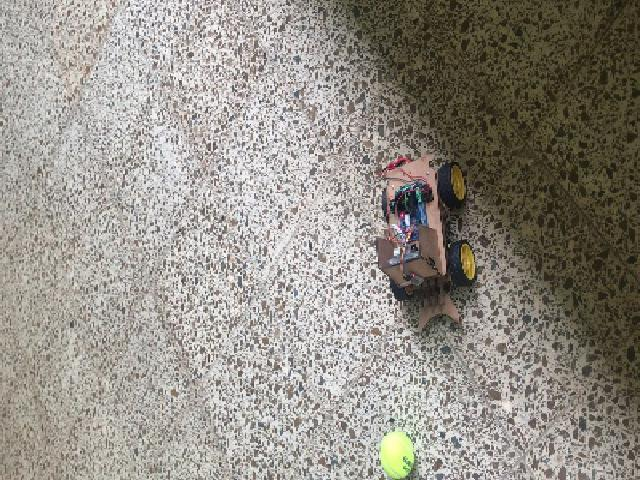Ball: (379, 433, 413, 478)
Robot: (376, 154, 475, 324)
